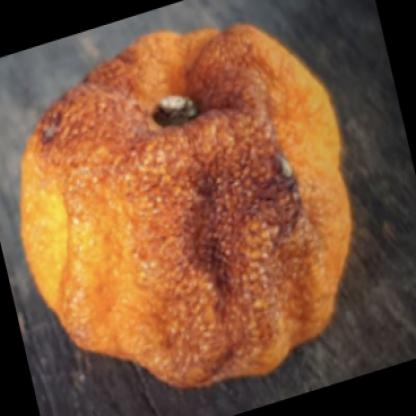rotten_orange: (14, 16, 353, 395)
